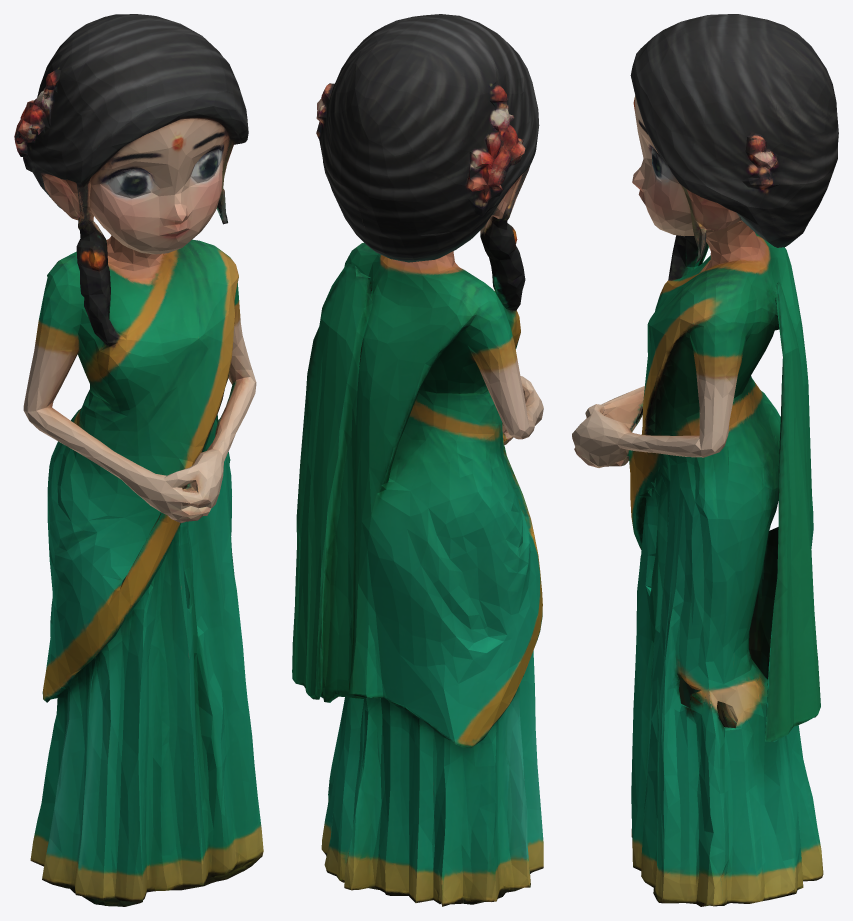
File: player.glb
3 renders of one model, left to right at view 1: azimuth 30°, elevation 25°; view 2: azimuth 150°, elevation 25°; view 3: azimuth 270°, elevation 25°, orthographic.
Parts seen in each view (by area): view 1: world; view 2: world; view 3: world.
Part boxes in pixels (x1,y1,x2,y2): world: (14, 14, 263, 906); world: (292, 14, 543, 906); world: (572, 14, 838, 906).
Bounding box in the file's own units: 0.2818 × 0.9993 × 0.2861.
Materials: 1 (1 with a texture image).
